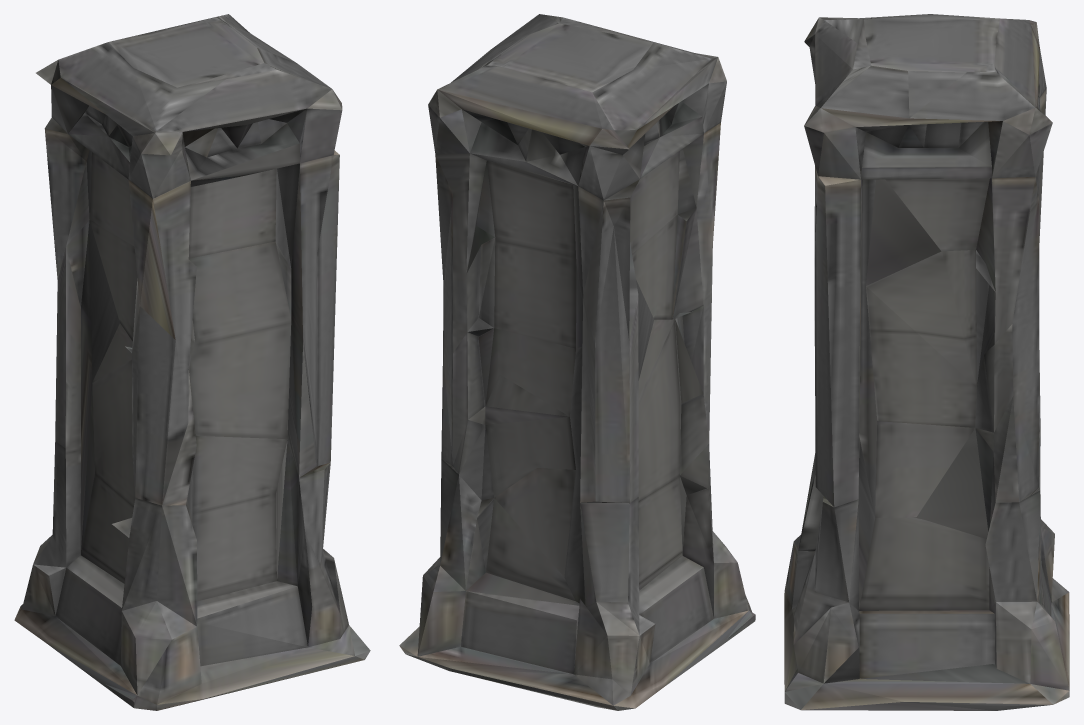
Rendered from imperial_city_wall_corner_post_lod2.glb.
3 renders of one model, left to right at view 1: azimuth 30°, elevation 25°; view 2: azimuth 150°, elevation 25°; view 3: azimuth 270°, elevation 25°, orthographic. The views are drawn at different scales.
Parts seen in each view (by area): view 1: mesh_node; view 2: mesh_node; view 3: mesh_node.
Boxes of the visible parts, x1,y1,x2,y2 form: mesh_node: (14, 14, 370, 710); mesh_node: (399, 14, 755, 710); mesh_node: (784, 14, 1069, 710).
Bounding box in the file's own units: 2.59 × 6.1 × 2.59.
Materials: 1 (1 with a texture image).
